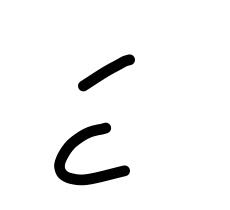o: (53, 113, 137, 195)
